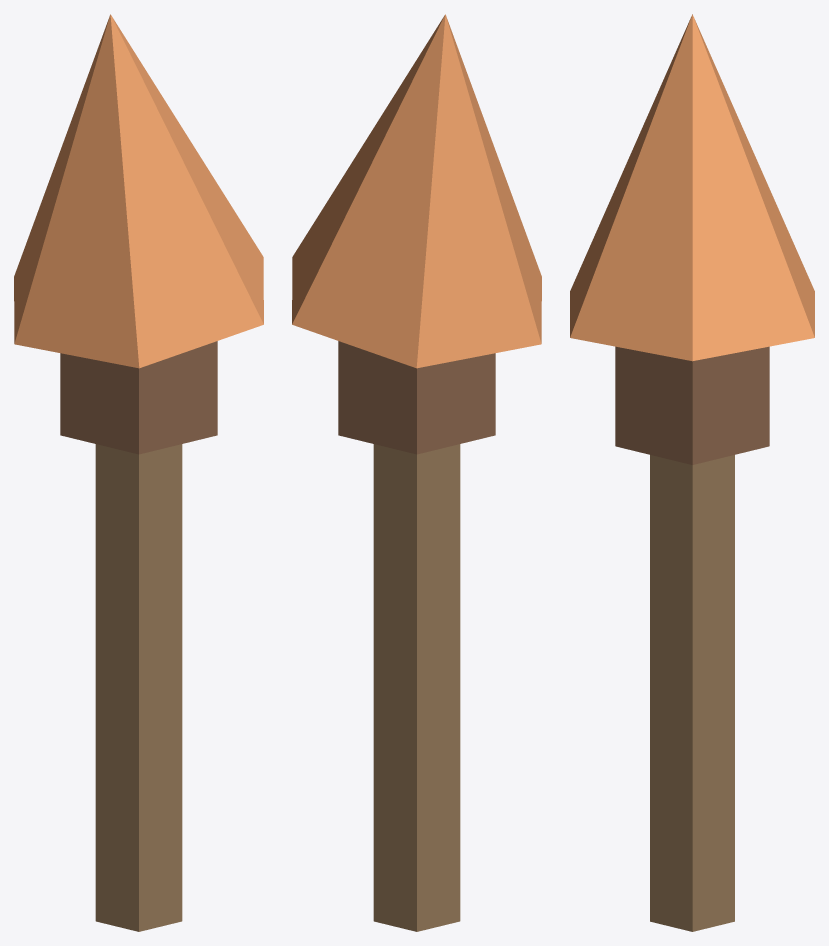
File: animprop_torch_05.glb
3 views of the same model, side by side, from view 1: azimuth 30°, elevation 25°; view 2: azimuth 150°, elevation 25°; view 3: azimuth 270°, elevation 25° (orthographic). The views are drawn at different scales.
Visible parts, largest first — view 1: animprop; view 2: animprop; view 3: animprop.
Boxes of the visible parts, x1,y1,x2,y2 form: animprop: (14,14,263,931); animprop: (292,14,541,931); animprop: (570,14,814,931).
Bounding box in the file's own units: 0.3164 × 1.1 × 0.2754.
